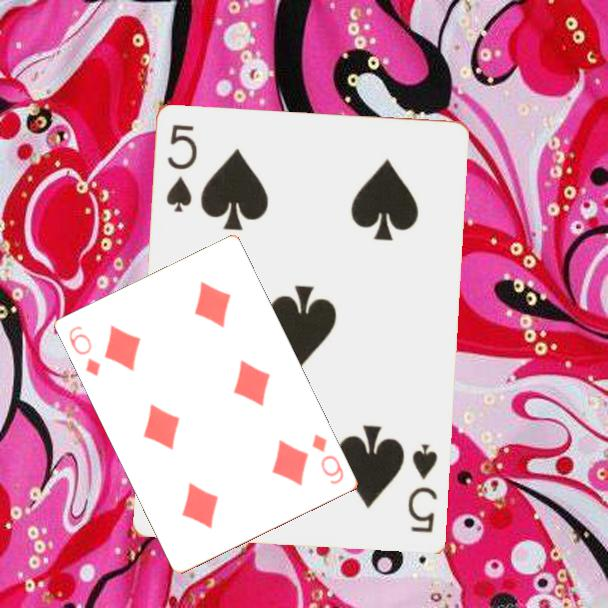d06: (309, 430, 347, 487), (66, 323, 104, 379)
s05: (163, 121, 201, 215), (404, 440, 441, 536)
